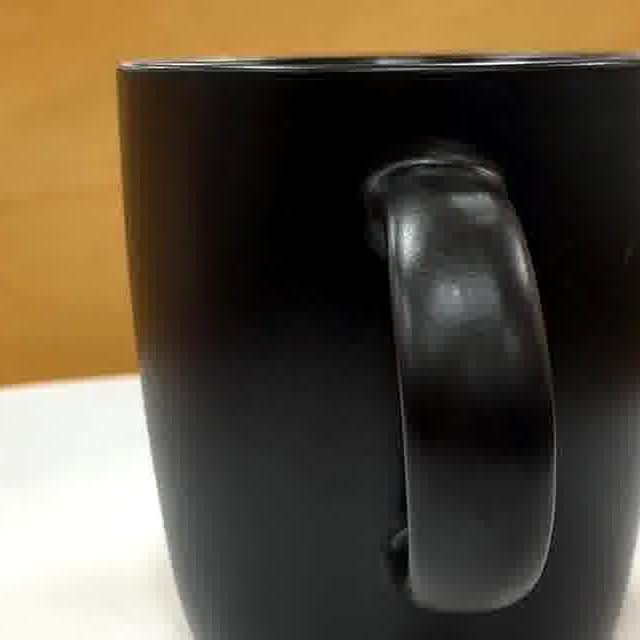cup: (124, 58, 640, 640)
